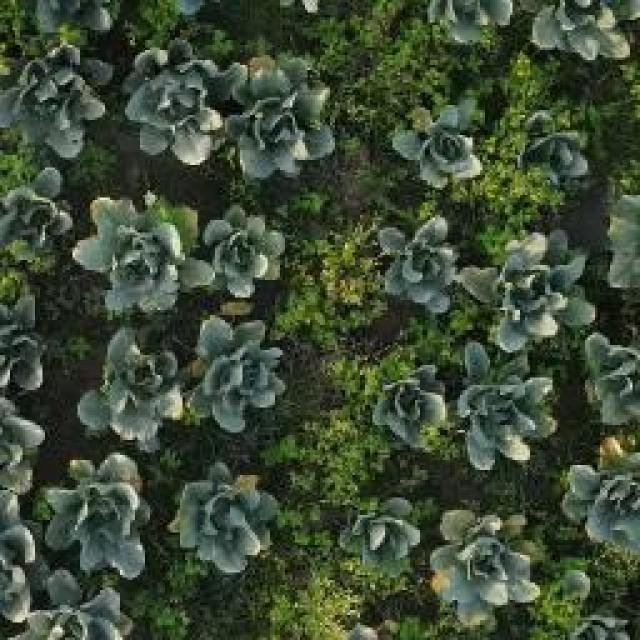cabbage: (74, 196, 215, 312), (460, 234, 596, 341), (451, 345, 561, 469), (218, 45, 330, 163), (0, 42, 112, 158), (178, 315, 288, 433), (427, 503, 542, 615), (76, 322, 184, 439), (46, 456, 152, 575), (120, 42, 220, 166), (168, 462, 275, 572), (372, 212, 466, 312), (388, 96, 482, 187), (566, 441, 640, 556), (196, 205, 285, 292), (514, 104, 598, 194), (0, 167, 70, 272), (364, 362, 448, 447), (340, 500, 427, 571), (532, 0, 638, 55), (580, 330, 640, 420), (425, 0, 520, 48)
